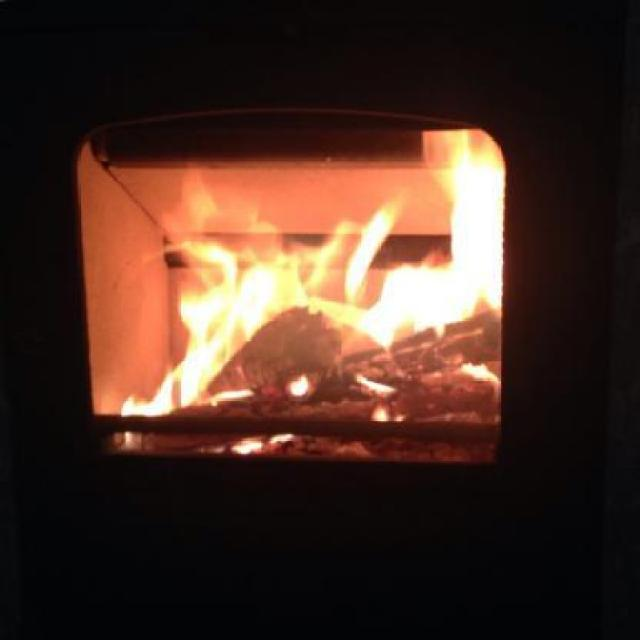Fire: (340, 128, 510, 352), (120, 234, 298, 422), (344, 205, 393, 306), (224, 429, 296, 463), (359, 370, 387, 396), (286, 371, 312, 398), (458, 359, 494, 373)
